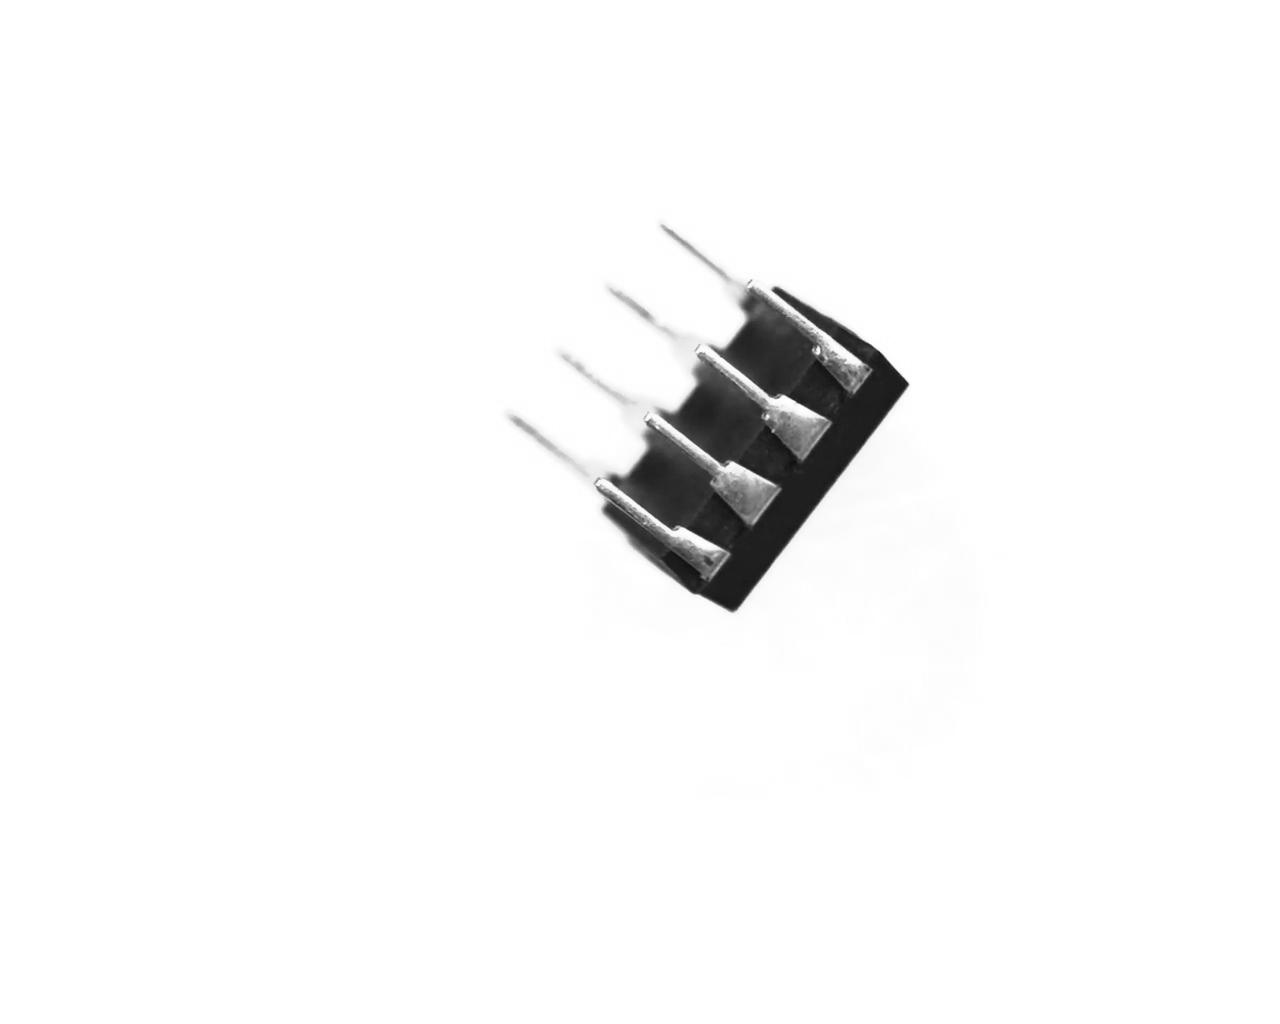Leg: (637, 412, 778, 525), (698, 342, 832, 458), (591, 478, 714, 604), (750, 281, 871, 390), (540, 344, 666, 435), (595, 279, 704, 369), (657, 222, 759, 315), (505, 408, 609, 490)
